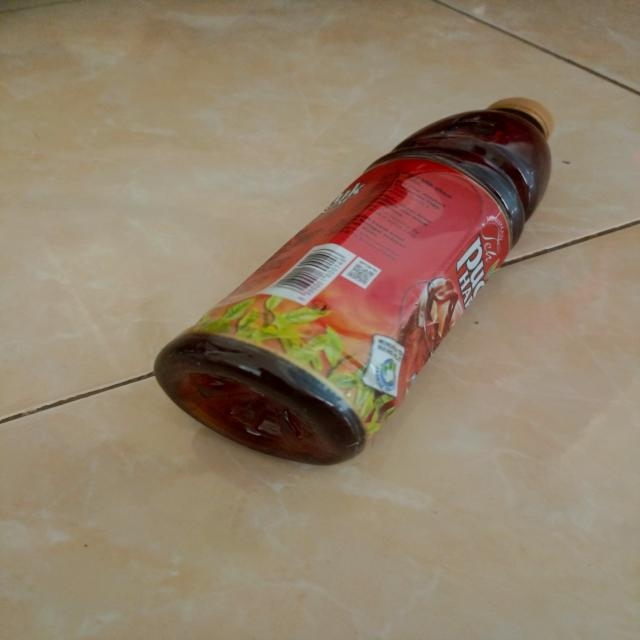teh-pucuk: (154, 94, 554, 467)
